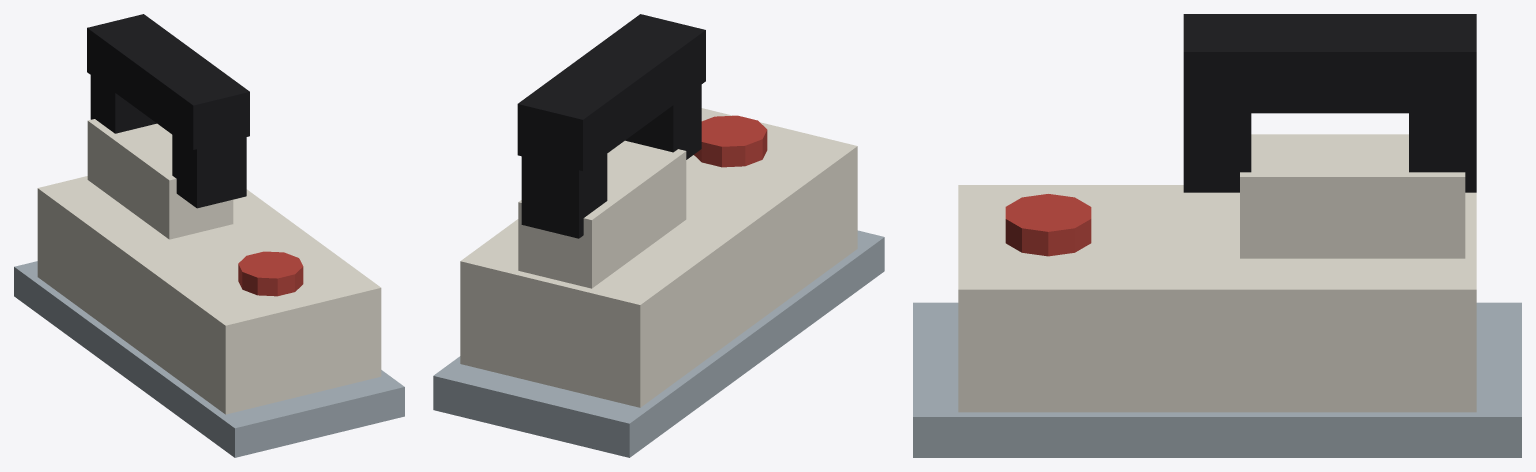
The model's file is GT_ClothesIron_01.glb.
The picture shows the model from 3 angles, left to right: view 1: azimuth 30°, elevation 25°; view 2: azimuth 150°, elevation 25°; view 3: azimuth 270°, elevation 25°; orthographic projection. The views are drawn at different scales.
Visible parts, largest first — view 1: GT_ClothesIron_01; view 2: GT_ClothesIron_01; view 3: GT_ClothesIron_01.
Part boxes in pixels (box(x1,y1,x2,y2)): GT_ClothesIron_01: box(14, 14, 404, 457); GT_ClothesIron_01: box(433, 14, 884, 457); GT_ClothesIron_01: box(913, 14, 1521, 457).
Size of the model in its own units: 0.12 by 0.18 by 0.27.
1 material, 1 textured.
